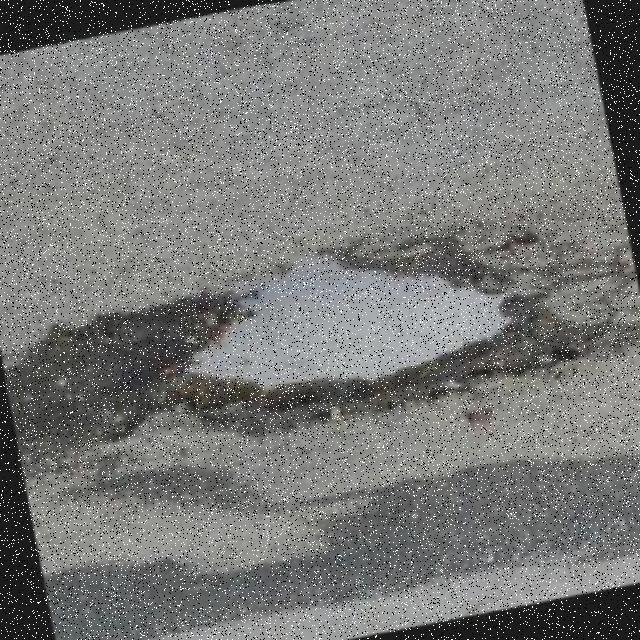Pothole: (4, 238, 640, 456)
